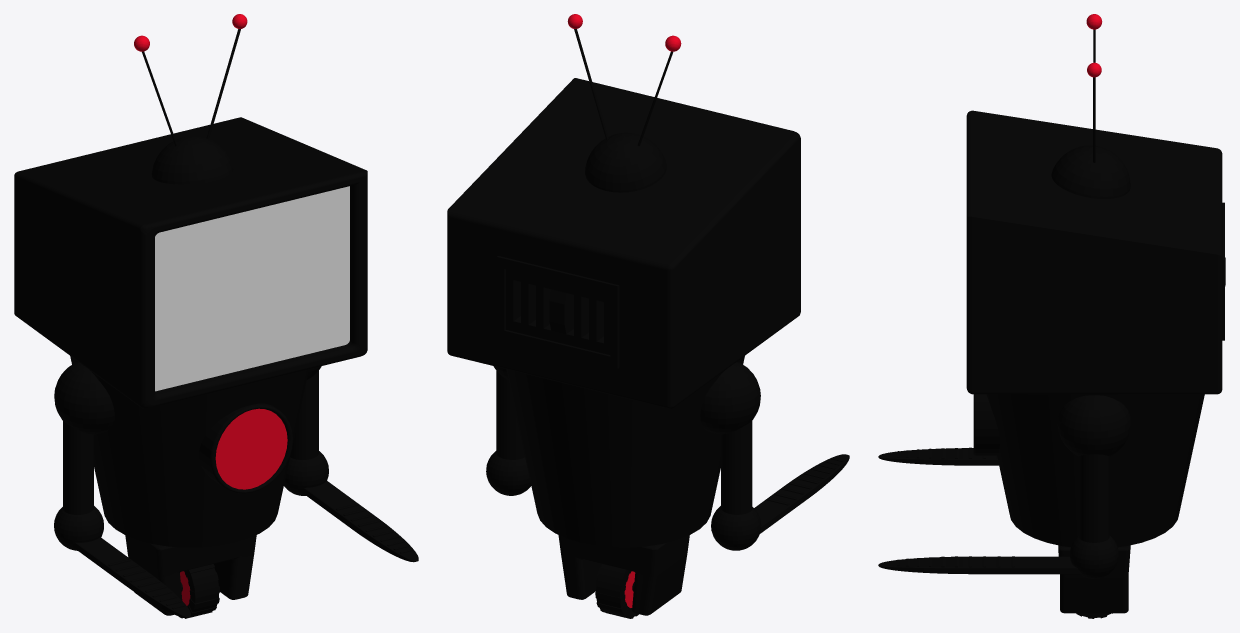
The model's file is robot_1.fbx.
The picture shows the model from 3 angles, left to right: view 1: azimuth 30°, elevation 25°; view 2: azimuth 150°, elevation 25°; view 3: azimuth 270°, elevation 25°; orthographic projection. The views are drawn at different scales.
Parts seen in each view (by area): view 1: Head, Body, Legs, RArm, LArm, RArm2, LArm2, Wheel; view 2: Head, Body, Legs, RArm, LArm, RArm2, Wheel; view 3: Head, Body, LArm, LArm2, Legs, RArm2.
Part boxes in pixels (x1=…): Head: x1=14, y1=14, x2=367, y2=408; Body: x1=54, y1=356, x2=321, y2=547; Legs: x1=125, y1=535, x2=256, y2=615; RArm: x1=54, y1=421, x2=103, y2=550; LArm: x1=284, y1=370, x2=328, y2=495; RArm2: x1=73, y1=537, x2=190, y2=617; LArm2: x1=302, y1=481, x2=418, y2=562; Wheel: x1=178, y1=564, x2=219, y2=618; Head: x1=447, y1=14, x2=800, y2=408; Body: x1=493, y1=356, x2=760, y2=547; Legs: x1=558, y1=535, x2=689, y2=615; RArm: x1=711, y1=421, x2=761, y2=550; LArm: x1=486, y1=371, x2=531, y2=495; RArm2: x1=754, y1=454, x2=849, y2=533; Wheel: x1=595, y1=564, x2=638, y2=618; Head: x1=966, y1=14, x2=1225, y2=394; Body: x1=973, y1=394, x2=1204, y2=547; LArm: x1=1070, y1=454, x2=1118, y2=578; LArm2: x1=878, y1=556, x2=1082, y2=574; Legs: x1=1058, y1=545, x2=1130, y2=613; RArm2: x1=878, y1=447, x2=998, y2=465.
Bounding box in the file's own units: 246 × 516 × 283.
